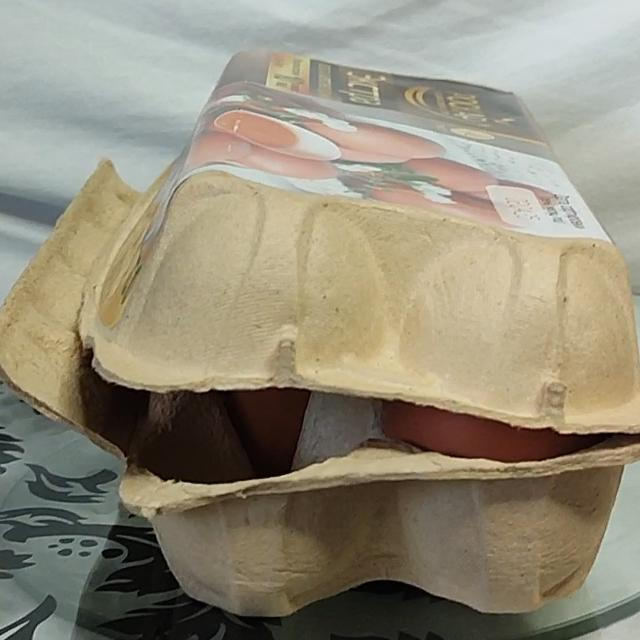egg: (3, 33, 640, 640)
